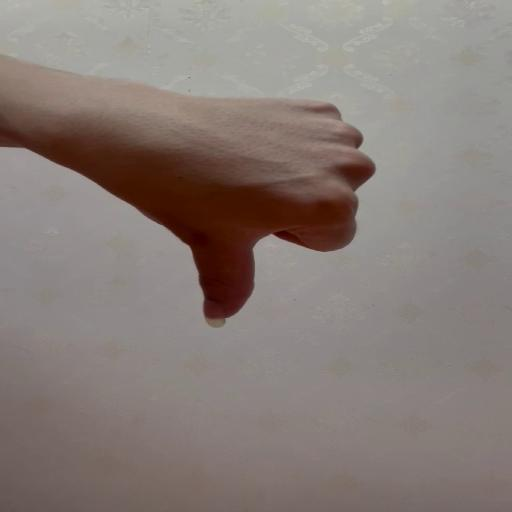thumbs_down: (125, 97, 379, 327)
